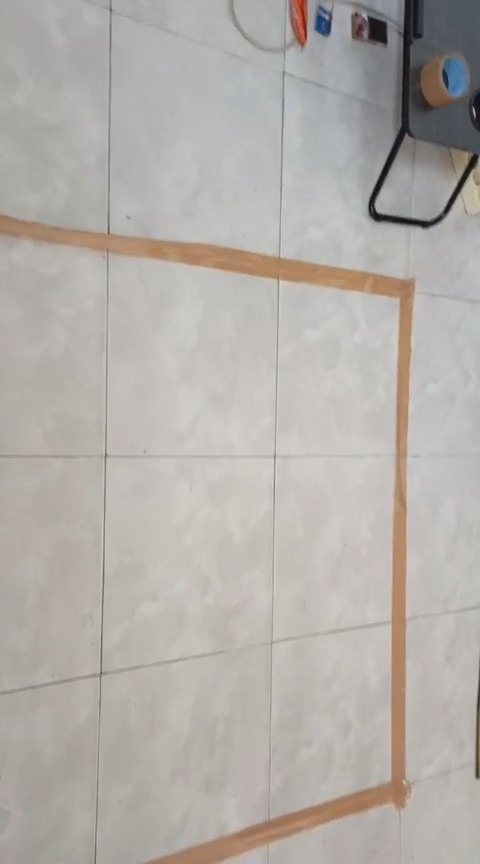floor marking: (0, 215, 413, 863)
